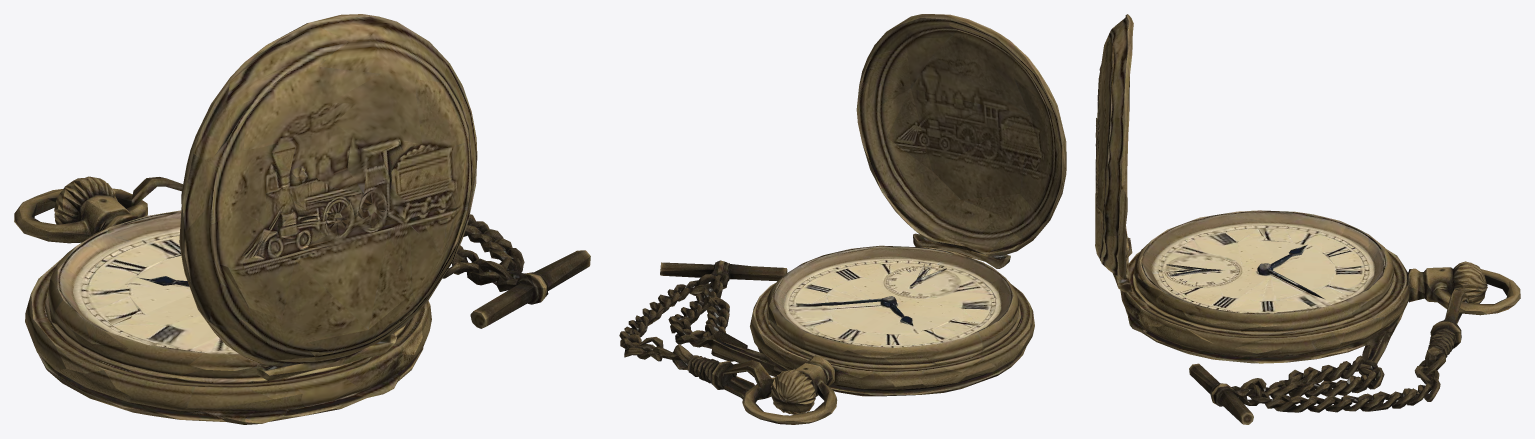
The model's file is watch.glb.
3 renders of one model, left to right at view 1: azimuth 30°, elevation 25°; view 2: azimuth 150°, elevation 25°; view 3: azimuth 270°, elevation 25°, orthographic. The views are drawn at different scales.
Visible parts, largest first — view 1: Mesh_0; view 2: Mesh_0; view 3: Mesh_0.
Boxes of the visible parts, x1=… form: Mesh_0: x1=14, y1=14, x2=590, y2=424; Mesh_0: x1=619, y1=14, x2=1066, y2=424; Mesh_0: x1=1095, y1=14, x2=1520, y2=424.
Size of the model in its own units: 1.9 by 1.41 by 1.88.
Materials: 1 (1 with a texture image).
